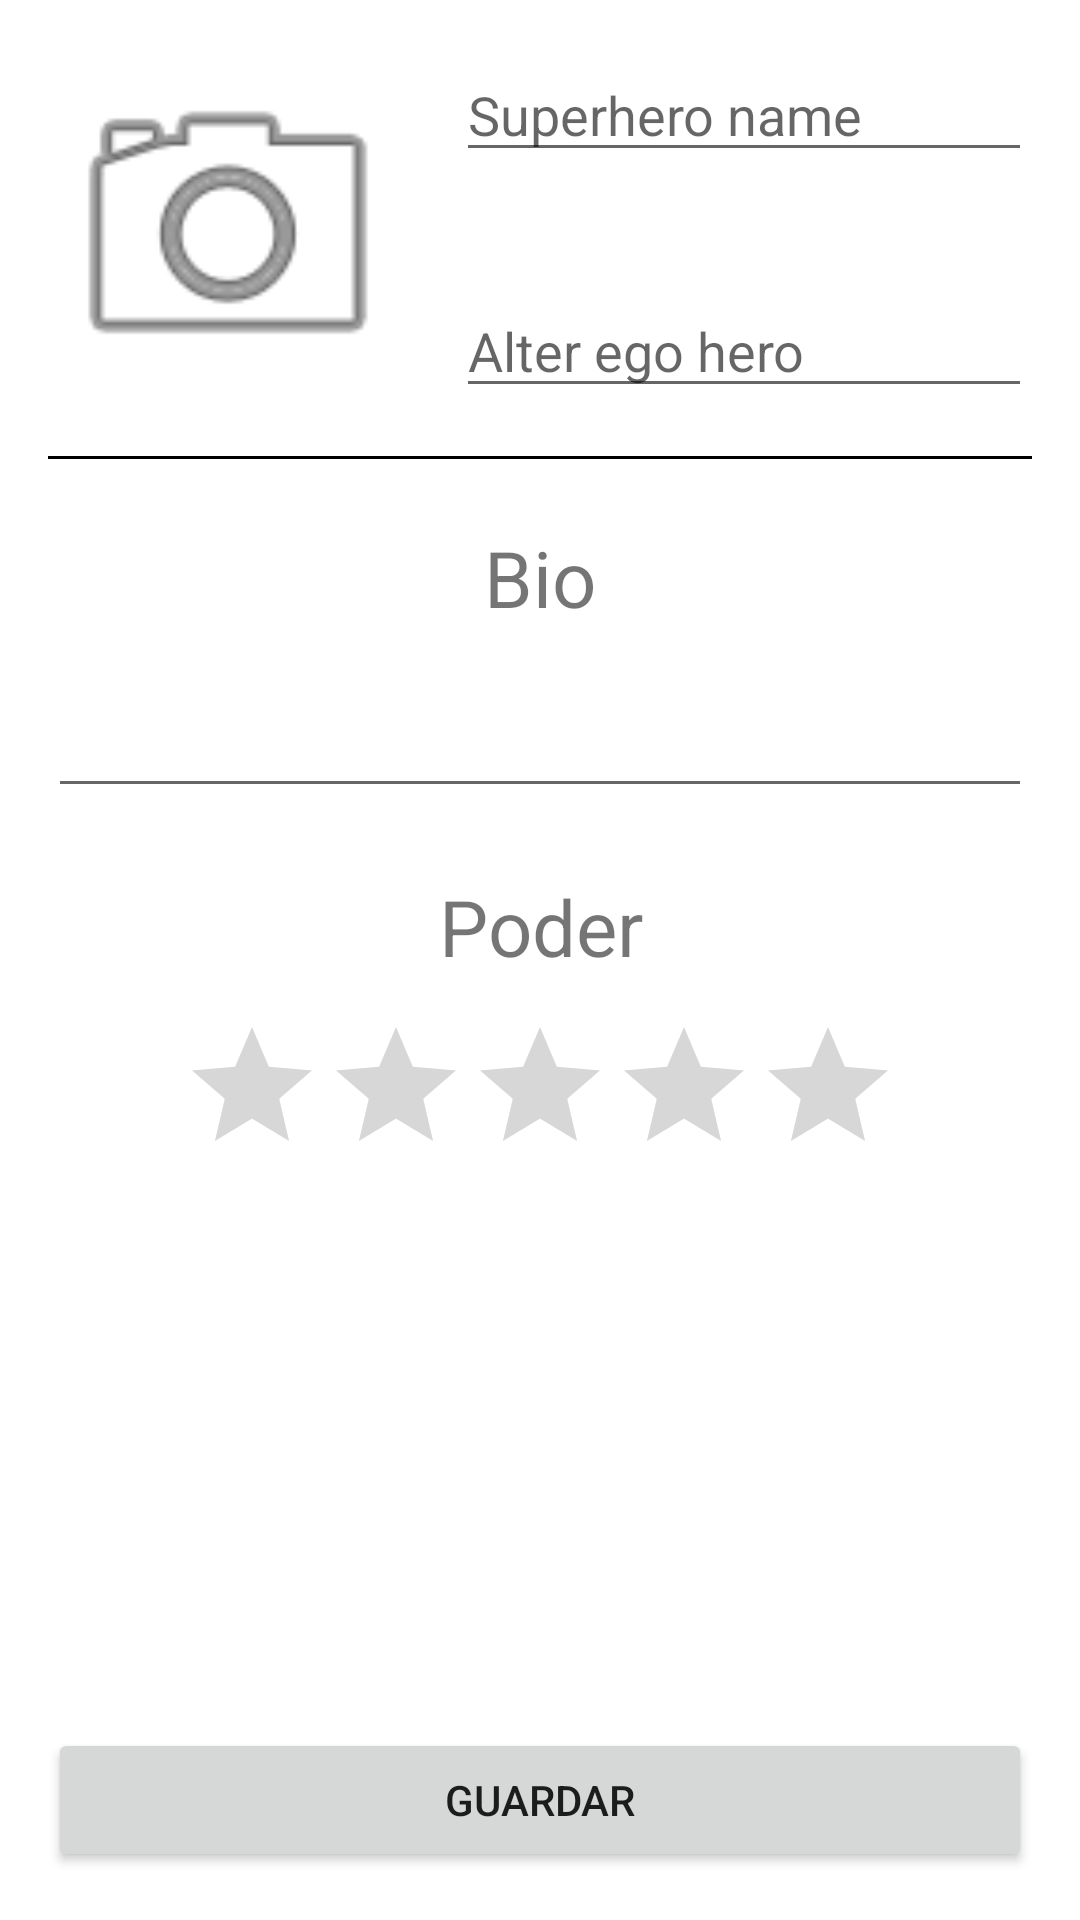

Point at icon controls on the screen. Image size 1080x1920, points as (x,y).
camera: (228,222)
